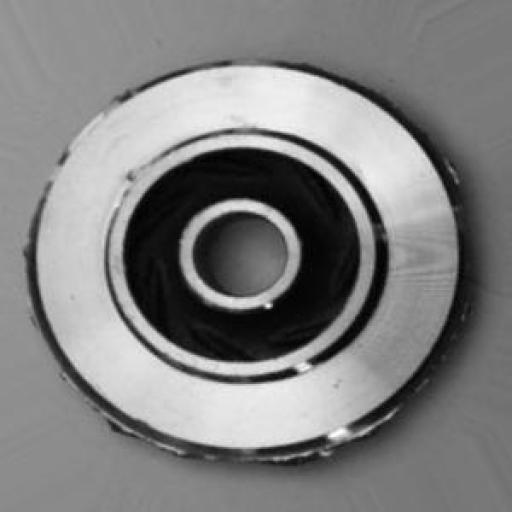defect: (10, 34, 492, 478)
